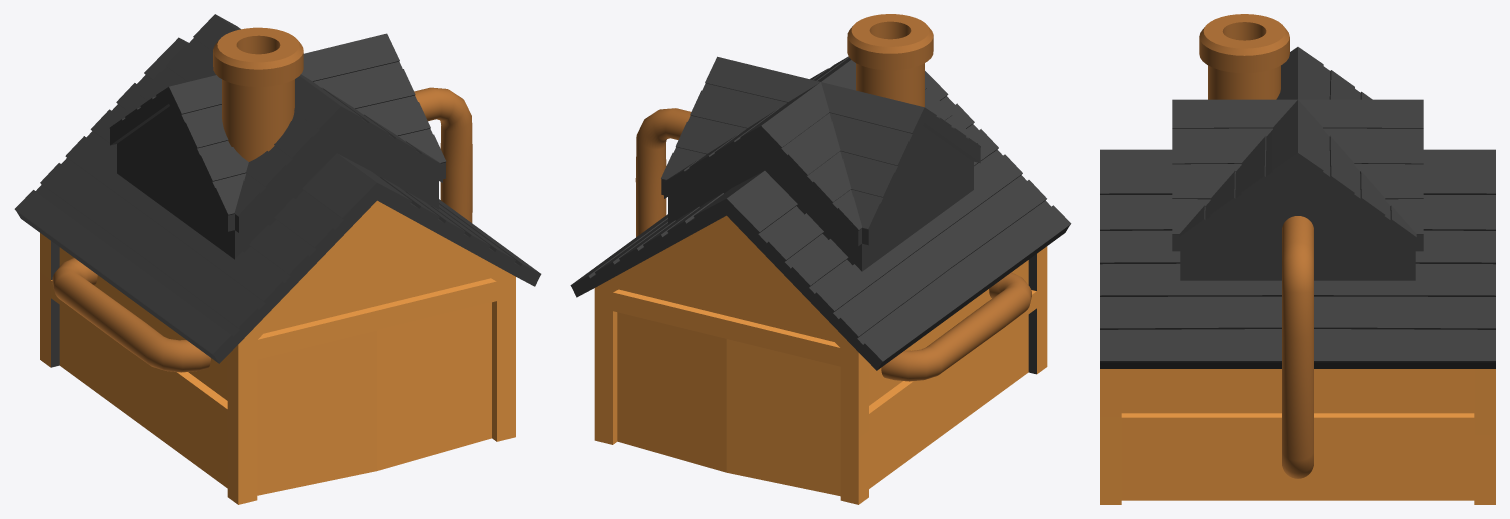
The model's file is SteampunkHouse.fbx.
The picture shows the model from 3 angles, left to right: view 1: azimuth 30°, elevation 25°; view 2: azimuth 150°, elevation 25°; view 3: azimuth 270°, elevation 25°; orthographic projection. The views are drawn at different scales.
Visible parts, largest first — view 1: Cube, Cube.001, Cylinder, Cylinder.003, Cylinder.001; view 2: Cube, Cube.001, Cylinder, Cylinder.003, Cylinder.001; view 3: Cube, Cube.001, Cylinder.001, Cylinder.
Part boxes in pixels (<box>): Cube: <box>14,37,541,504</box>; Cube.001: <box>109,14,446,259</box>; Cylinder: <box>213,27,303,161</box>; Cylinder.003: <box>52,258,210,372</box>; Cylinder.001: <box>414,87,472,222</box>; Cube: <box>570,71,1071,504</box>; Cube.001: <box>661,56,980,271</box>; Cylinder: <box>847,14,933,107</box>; Cylinder.003: <box>881,272,1031,381</box>; Cylinder.001: <box>635,108,691,236</box>; Cube: <box>1100,149,1495,504</box>; Cube.001: <box>1172,47,1423,280</box>; Cylinder.001: <box>1282,216,1313,478</box>; Cylinder: <box>1199,14,1289,99</box>.
Size of the model in its own units: 266 by 248 by 265.
